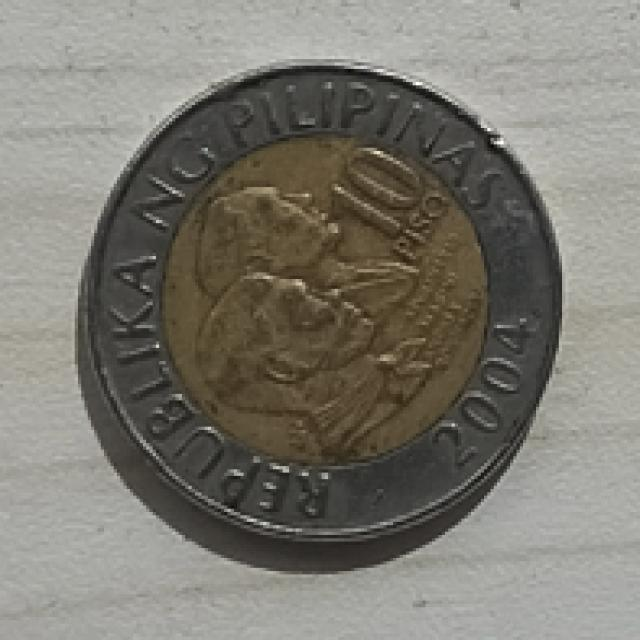10_peso: (88, 66, 556, 538)
